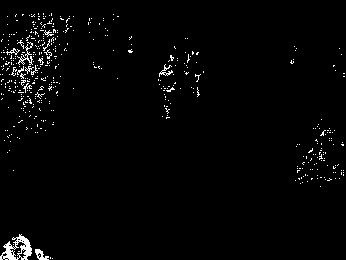person: (156, 62, 177, 120)
